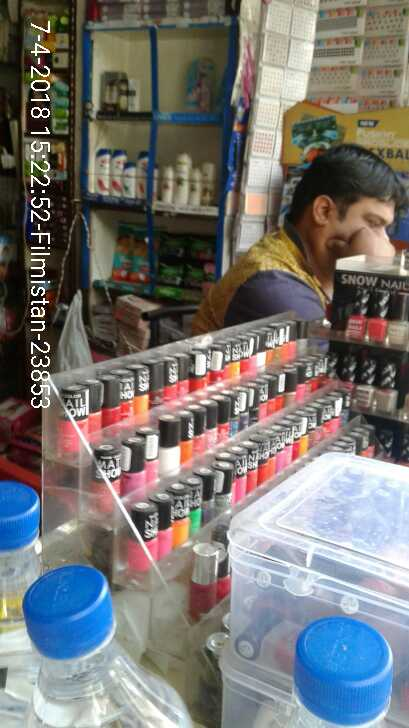venus: (189, 57, 213, 113)
